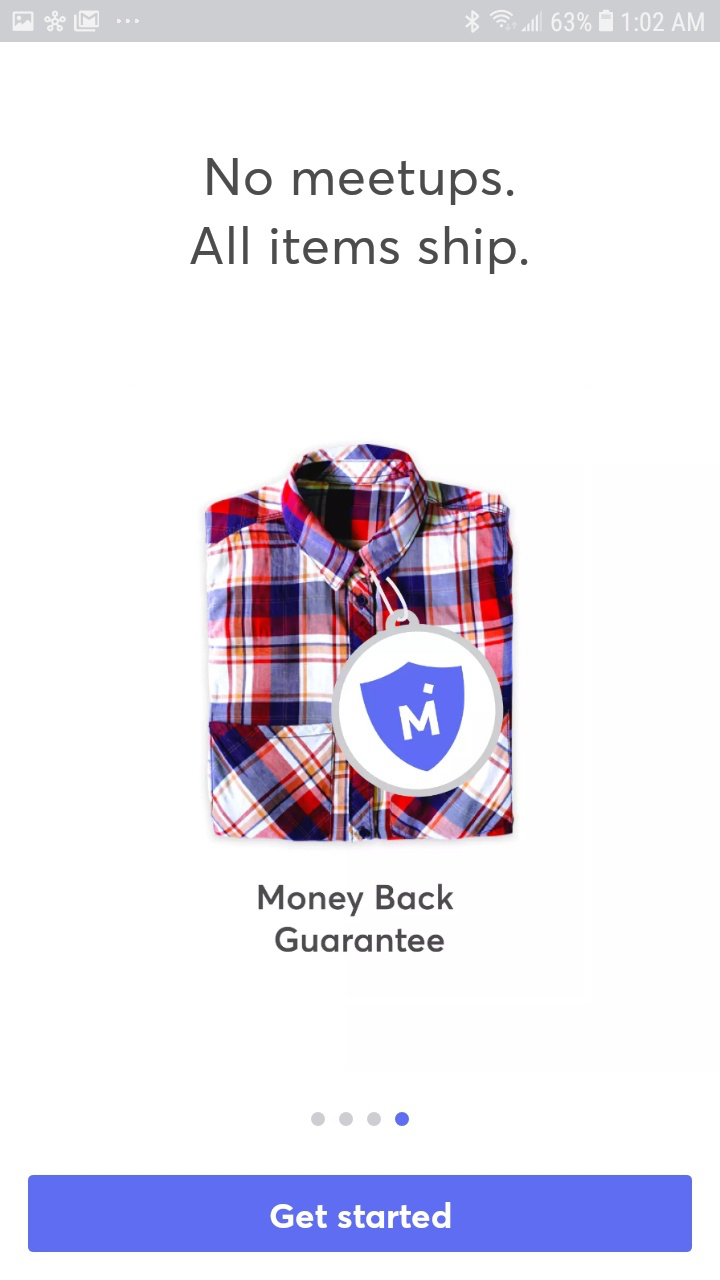Image: (205, 444, 515, 843)
PageIndicator: (311, 1111, 410, 1127)
Text: (190, 158, 529, 276), (258, 883, 454, 953)
TextButton: (29, 1175, 692, 1252)
UpperTaskBar: (1, 1, 720, 43)
